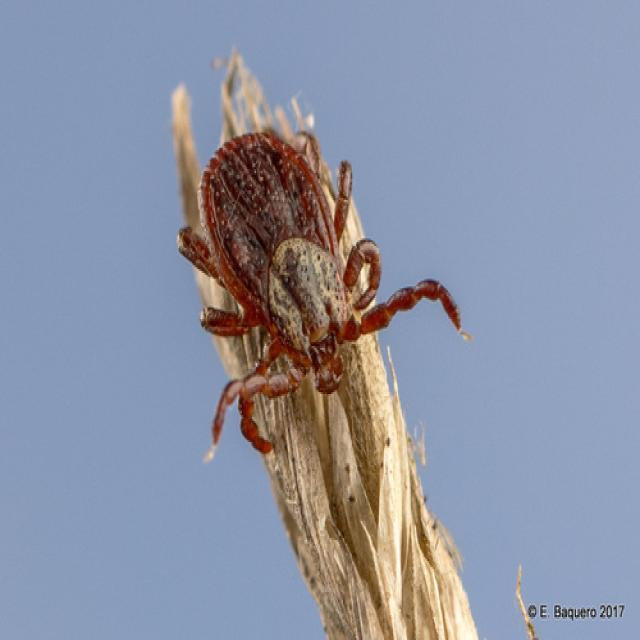Dermacentor Reticulatus-F: (178, 131, 463, 463)
